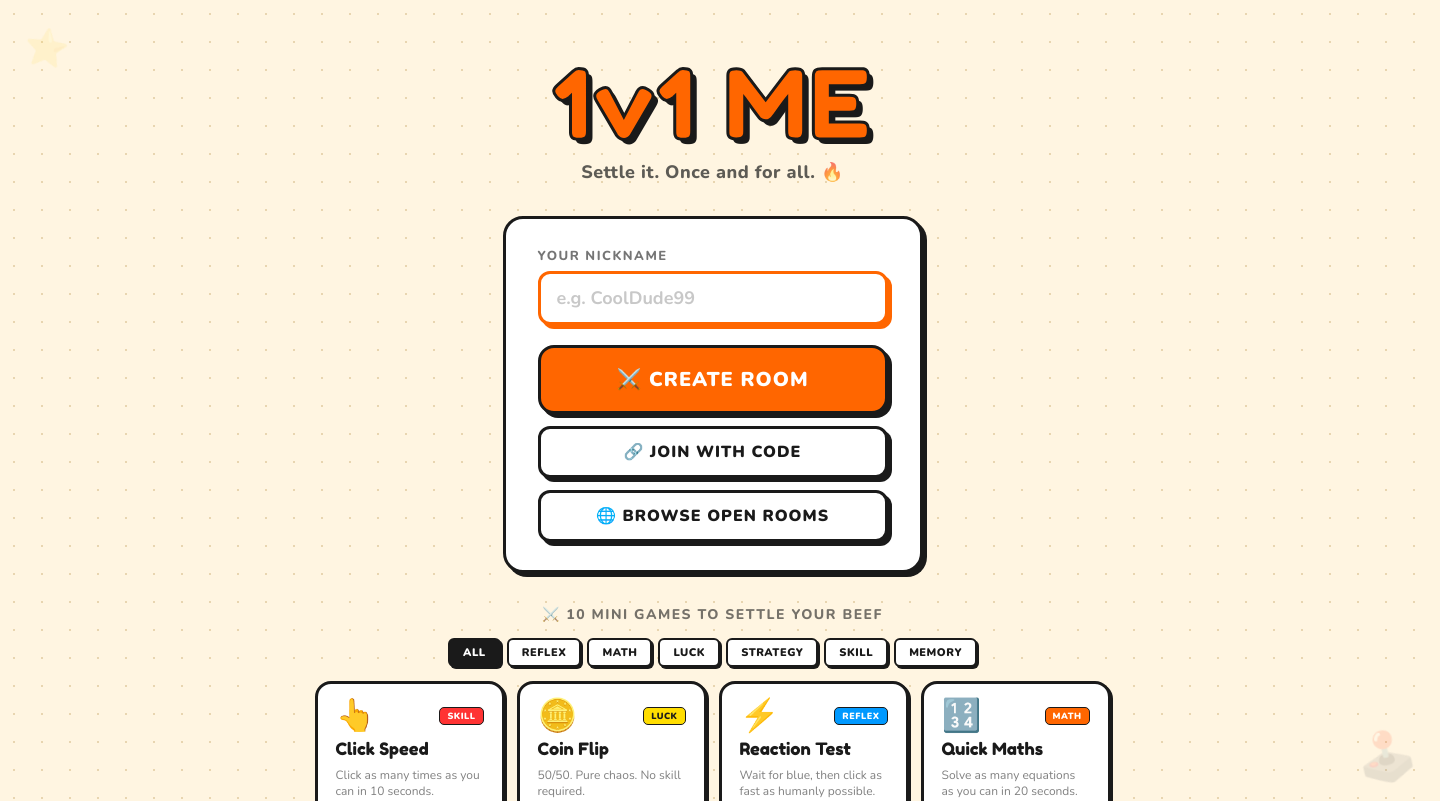
Test case: HomePage — game gallery › filters to only reflex games when Reflex pill is clicked
Click the button "reflex" at x=544, y=652, box [507,638,581,667]
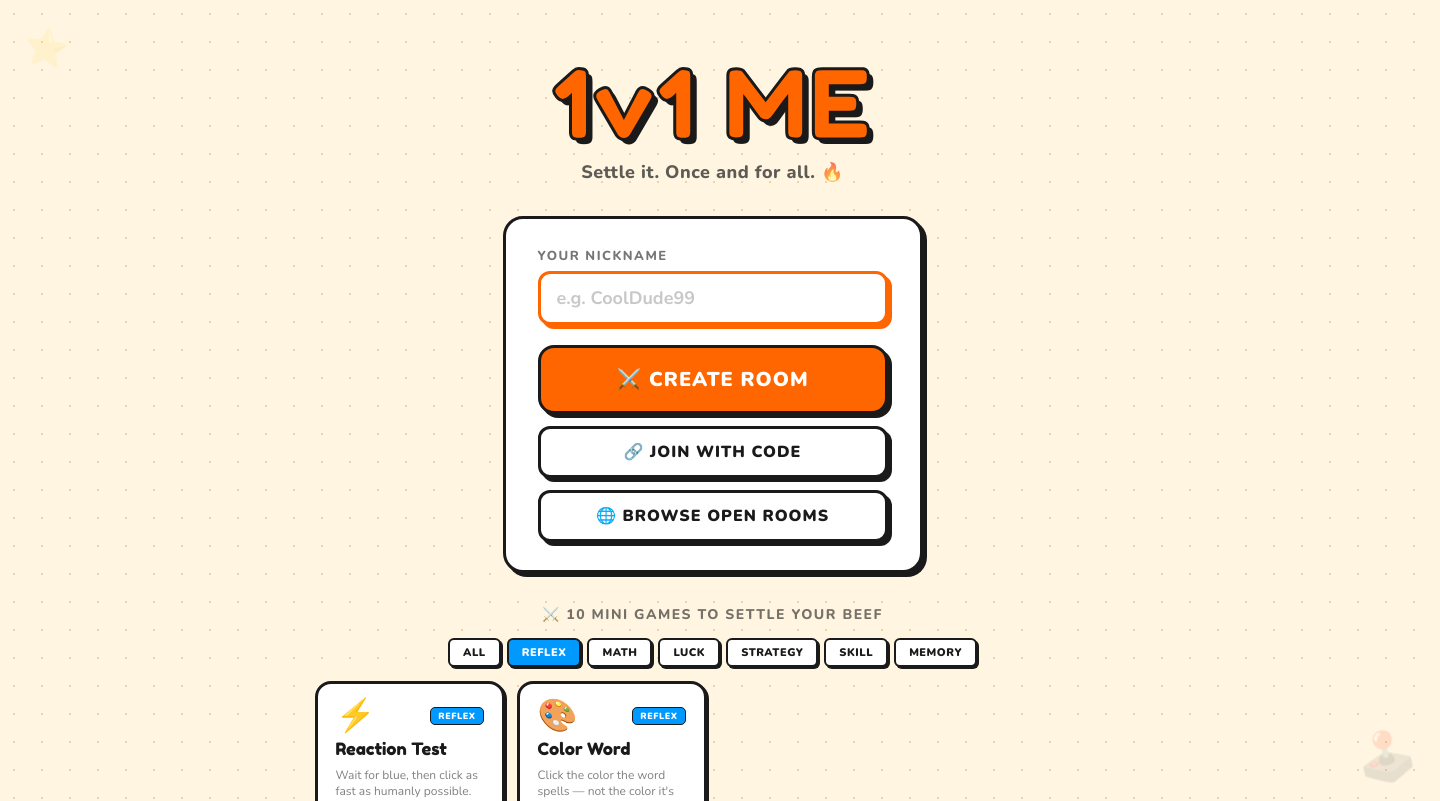
Check: the text "Click Speed" is gone
Check: the text "Coin Flip" is gone
Check: the text "Quick Maths" is gone
